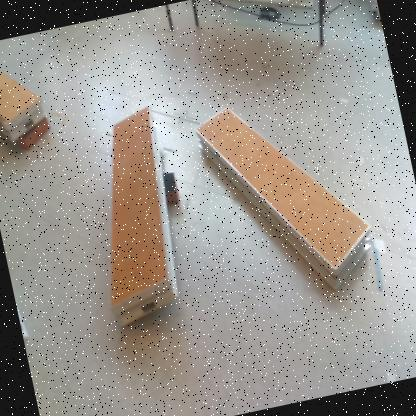Stairs: (196, 108, 373, 293), (111, 106, 178, 328), (1, 71, 47, 144)
